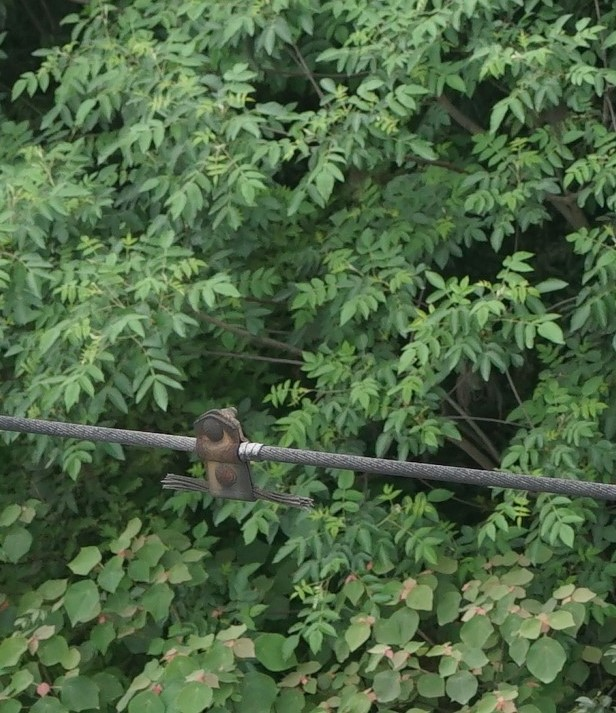Damage of shockproof hammer: (152, 402, 323, 516)
